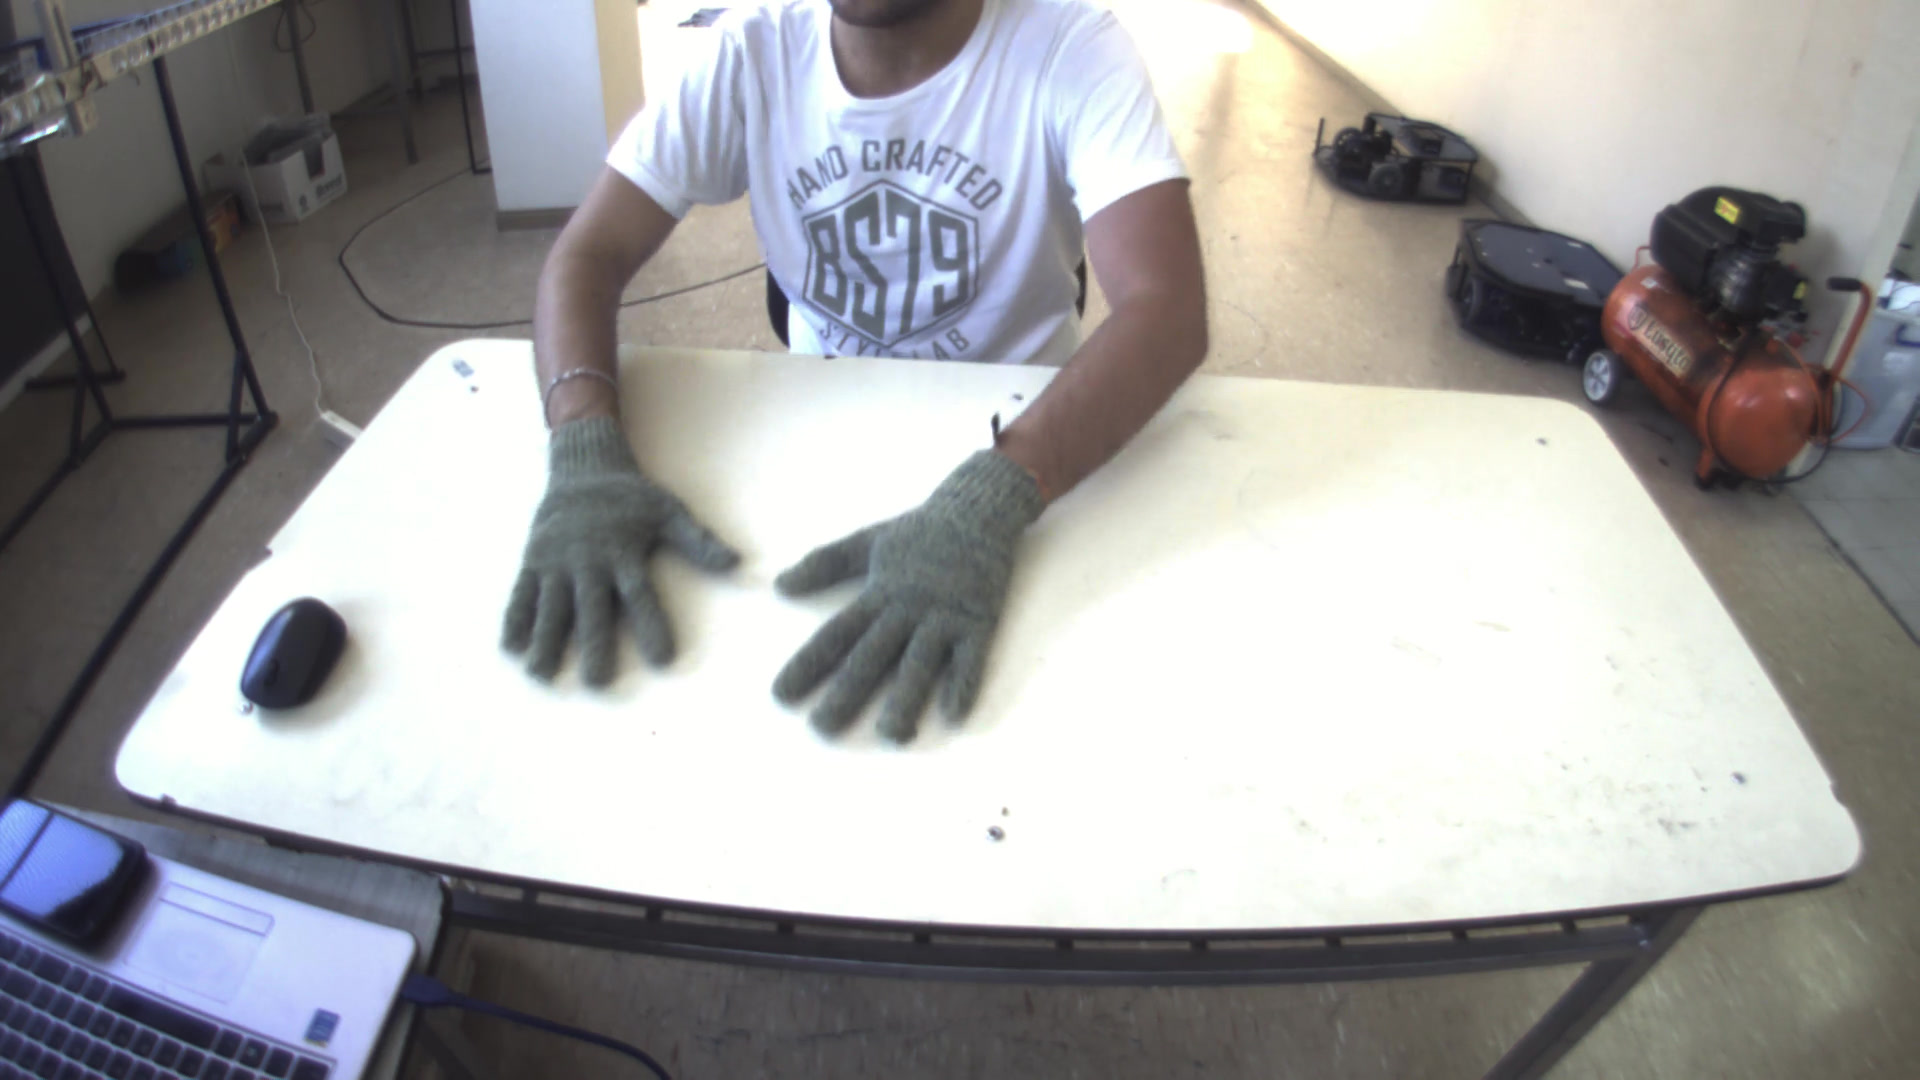hand: (756, 443, 1051, 750), (481, 396, 745, 702)
